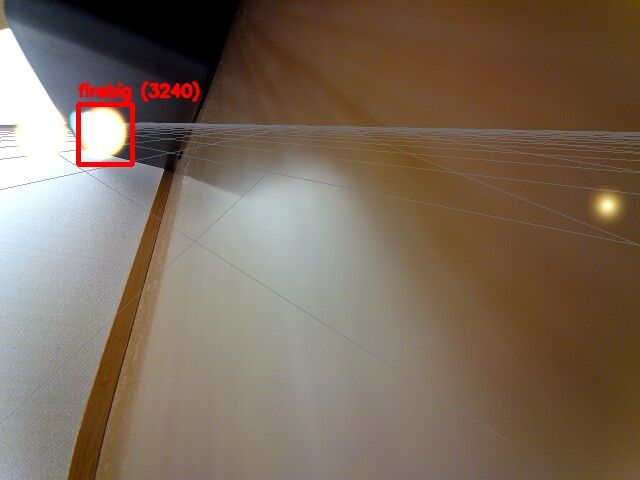firebig: (78, 104, 132, 164)
